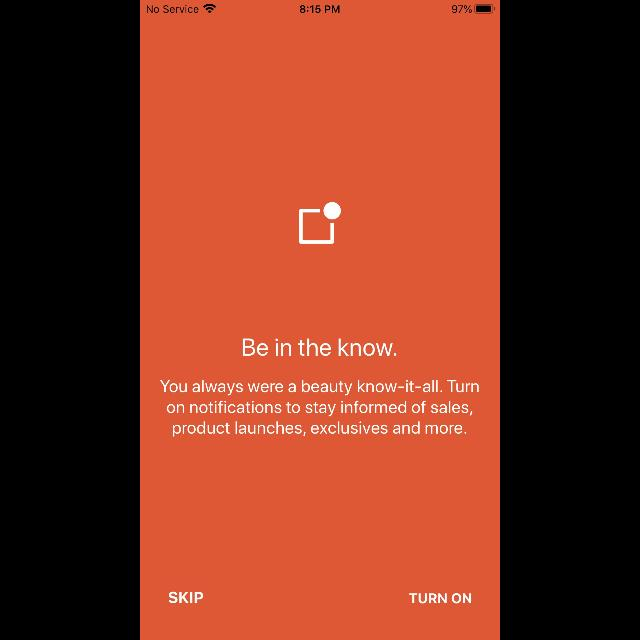image: (300, 202, 340, 244)
text: (160, 379, 478, 436), (244, 338, 396, 356), (409, 593, 471, 603), (168, 591, 204, 603)
uppertaskbar: (140, 0, 500, 14)
